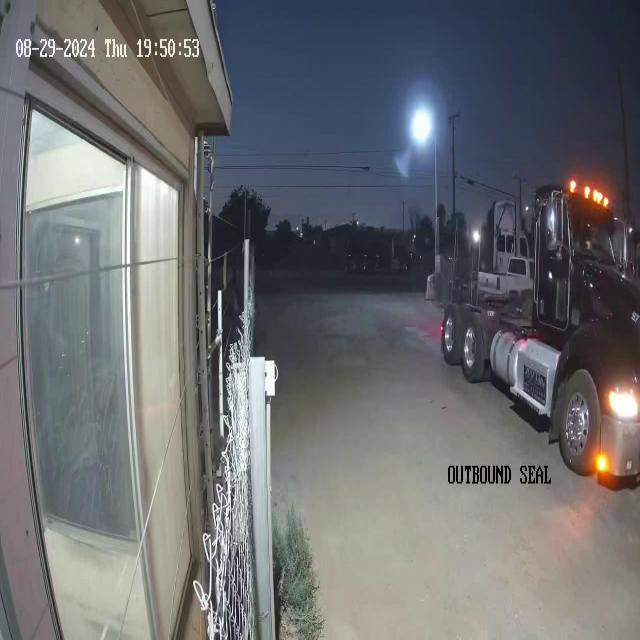TRUCK_IN: (433, 180, 639, 484)
